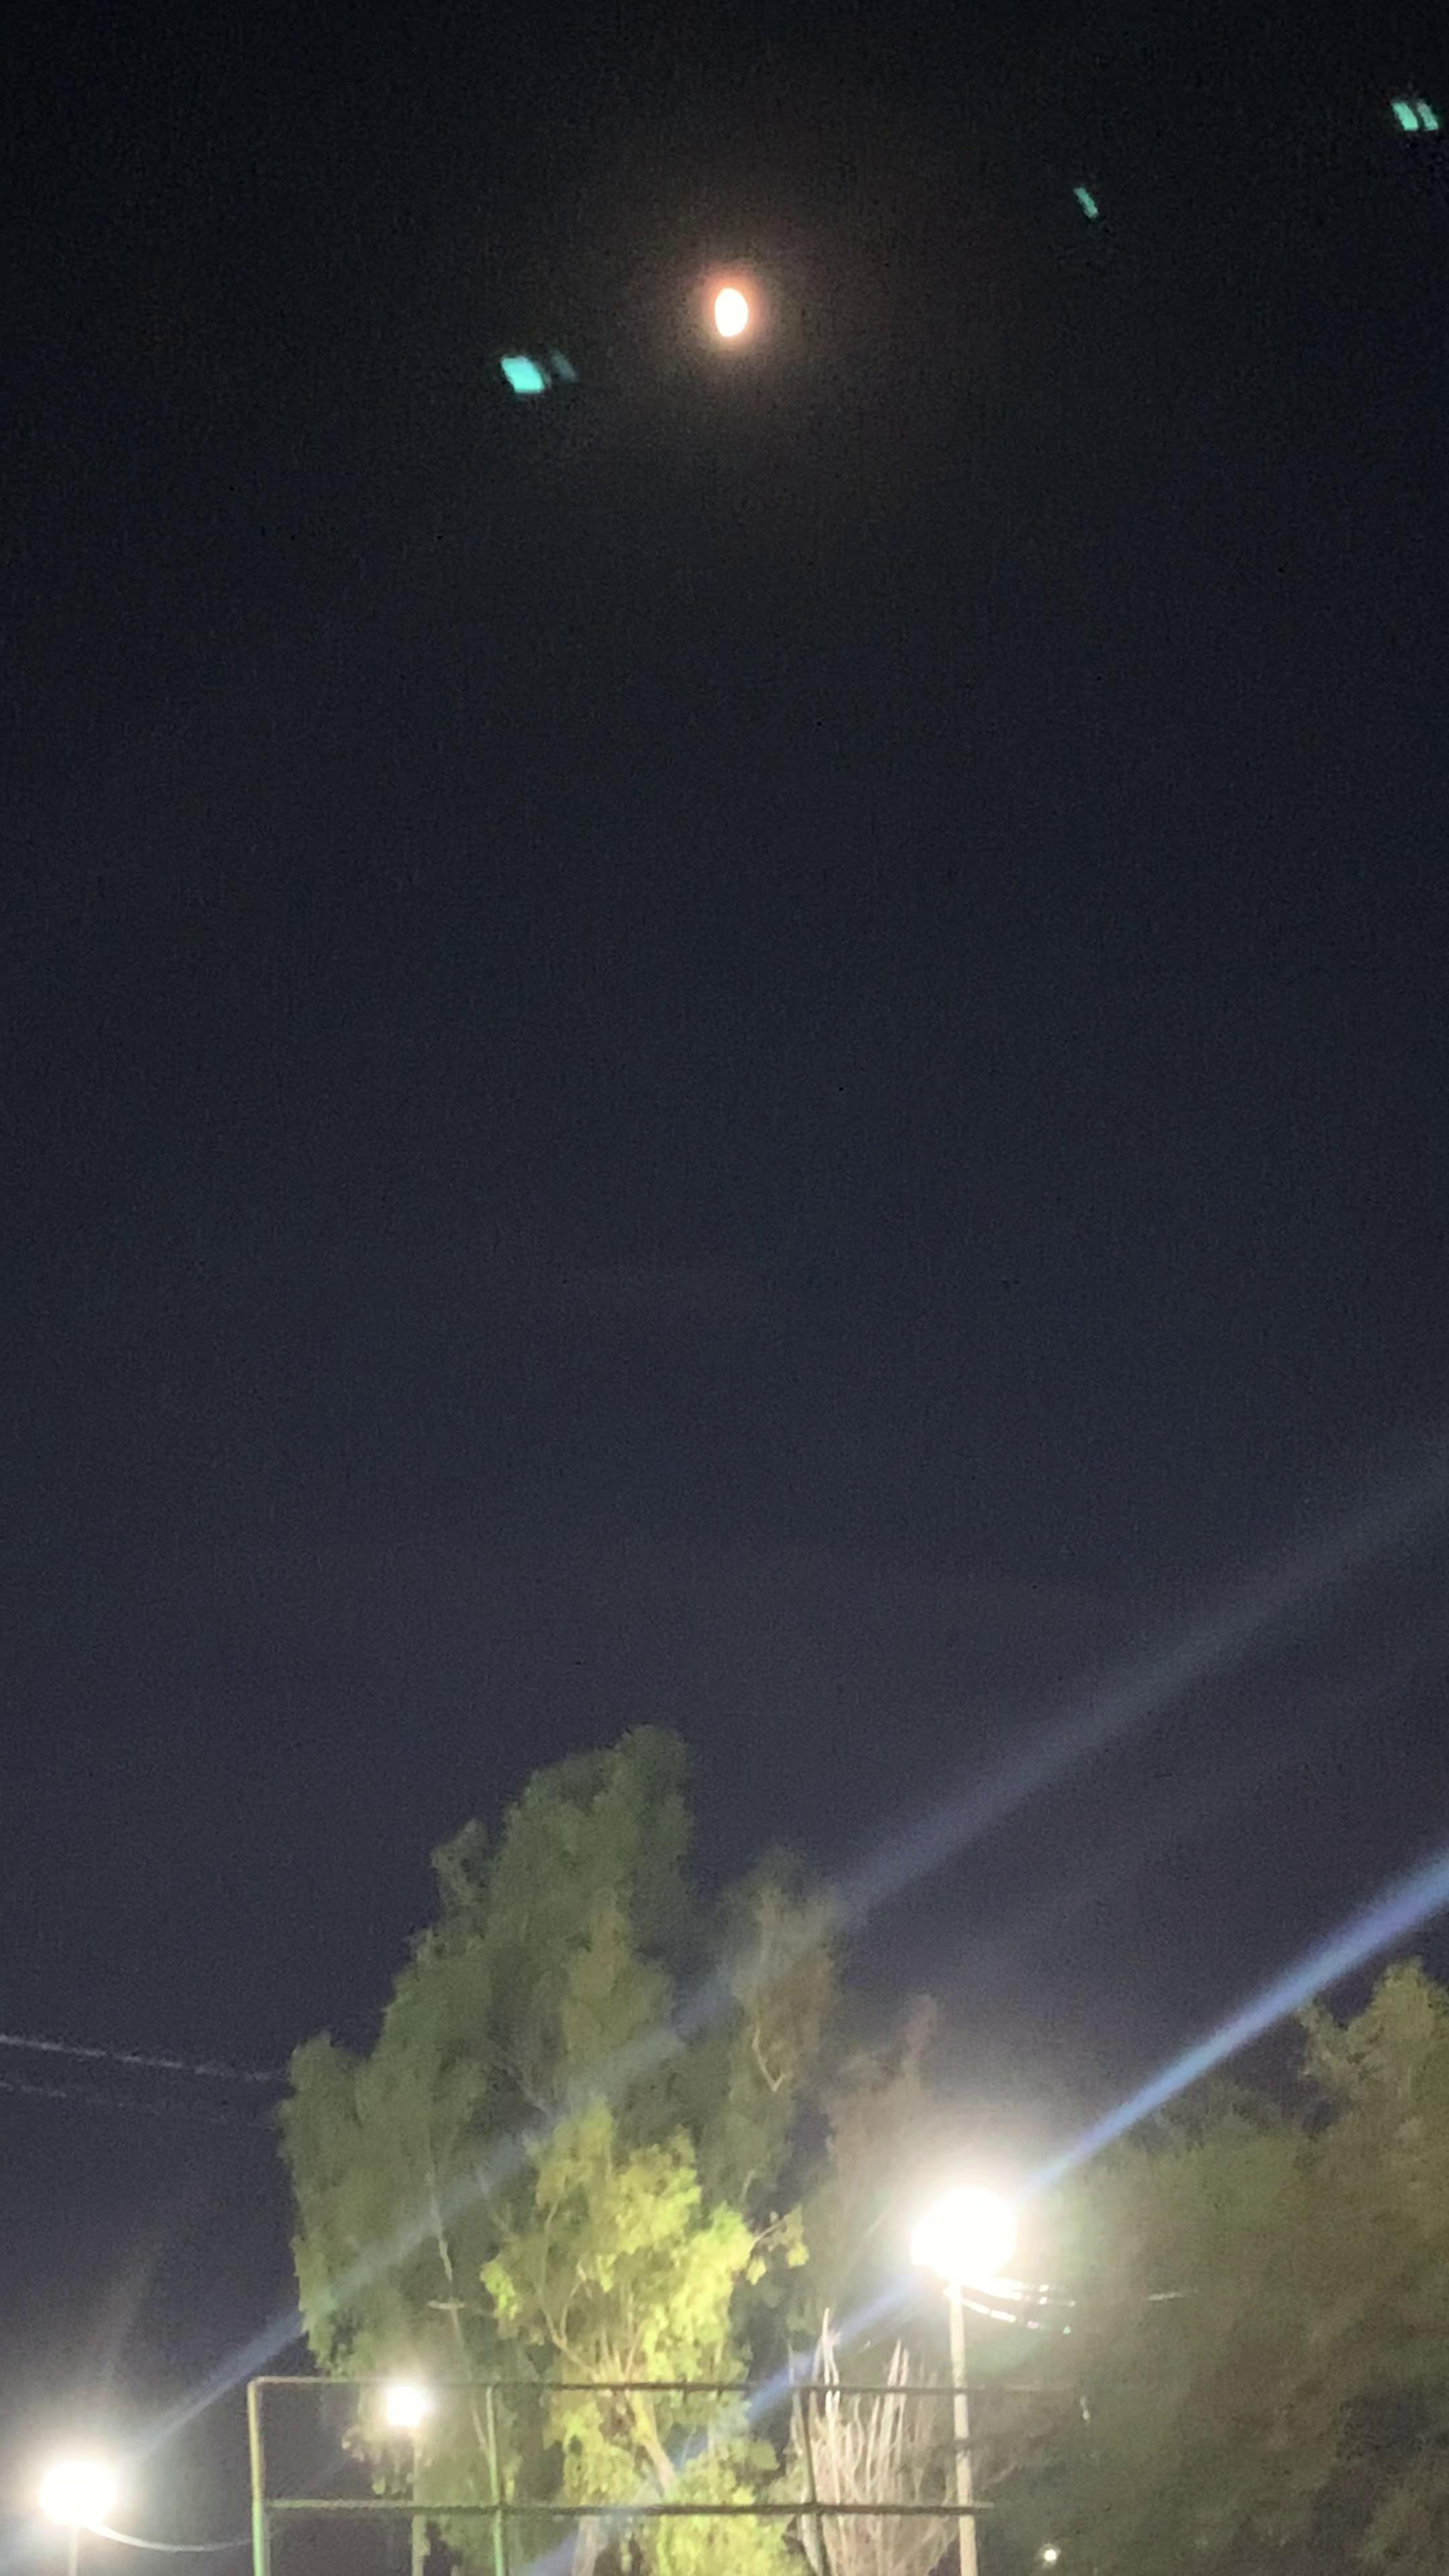moon: (662, 253, 821, 400)
